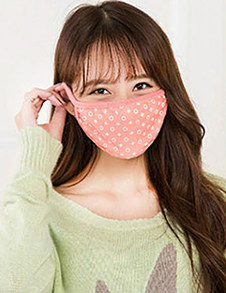face_mask: (74, 38, 163, 158)
